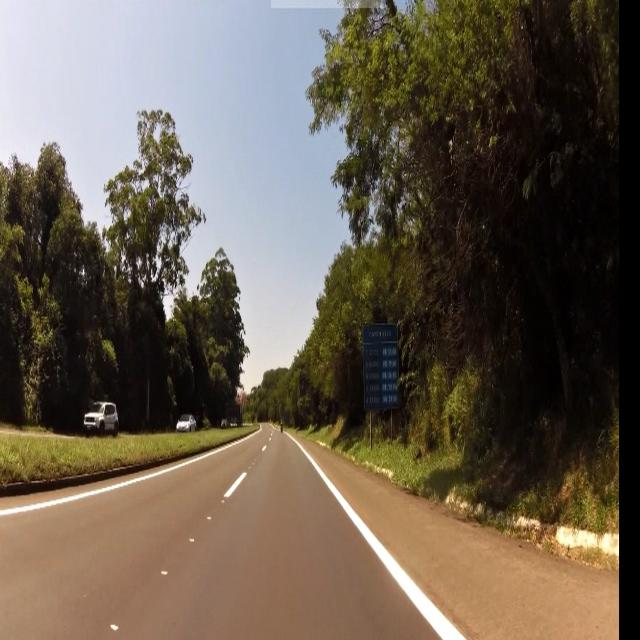LOC-6: (362, 325, 400, 409)
